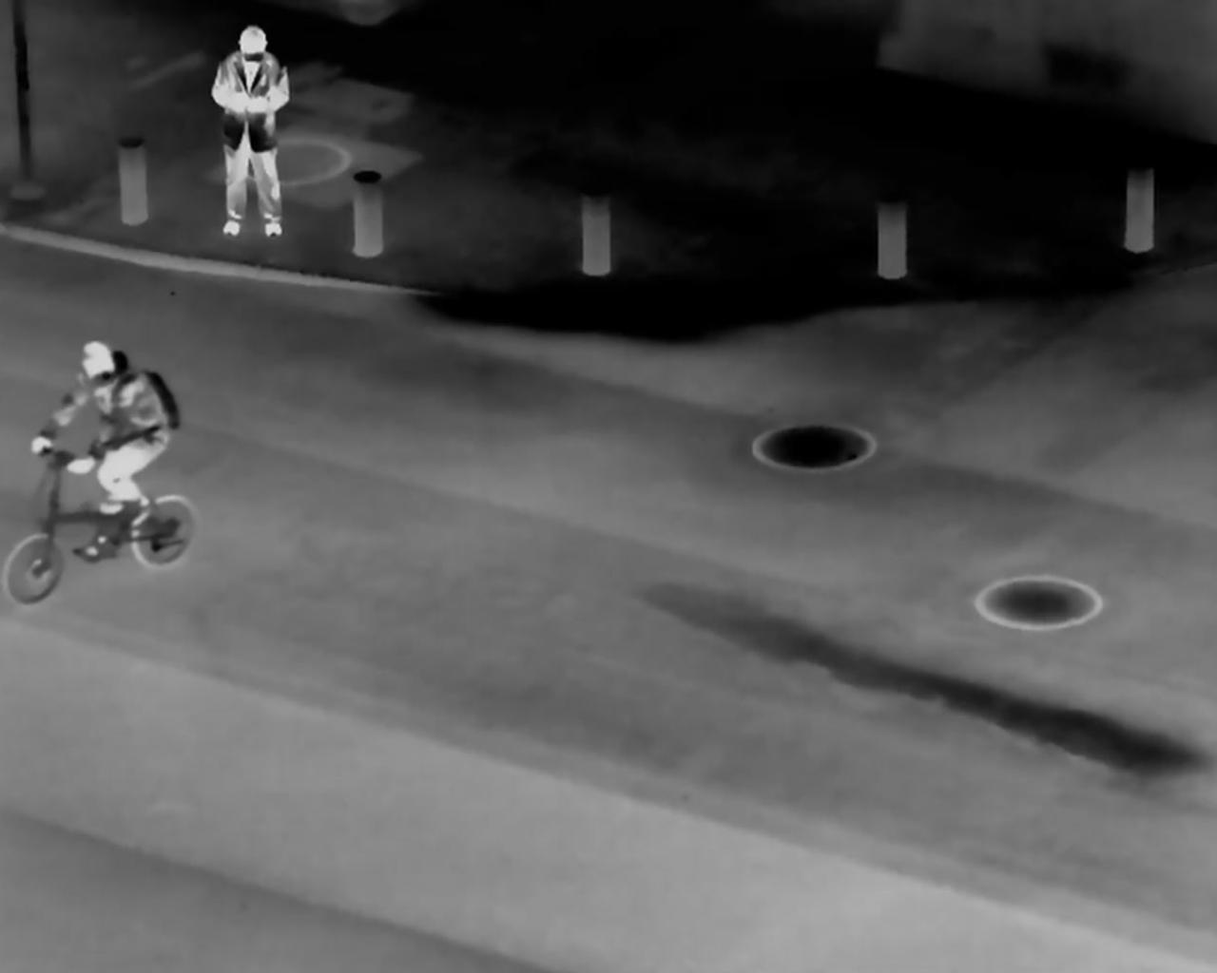person: (38, 325, 181, 557), (202, 18, 298, 243)
